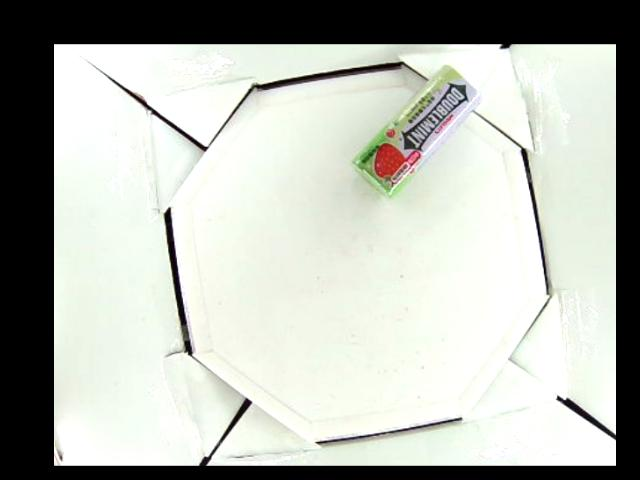Bottle: (355, 65, 483, 196)
